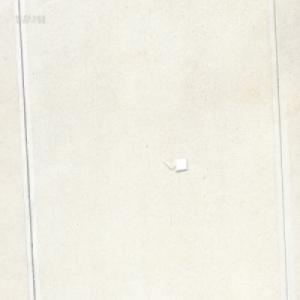LuggageTag: (162, 155, 187, 171)
